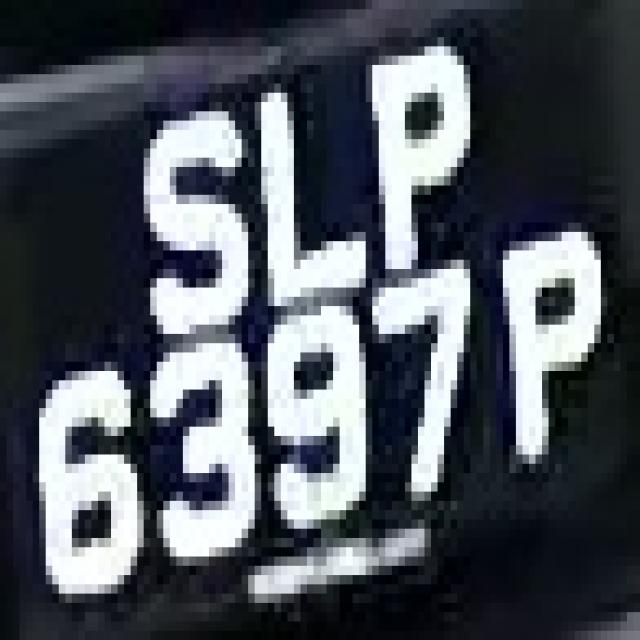3: (150, 297, 274, 603)
6: (7, 334, 163, 621)
7: (352, 250, 477, 520)
9: (235, 269, 398, 538)
L: (235, 47, 379, 316)
P: (352, 19, 490, 269), (490, 213, 614, 482)
S: (130, 84, 254, 352)
